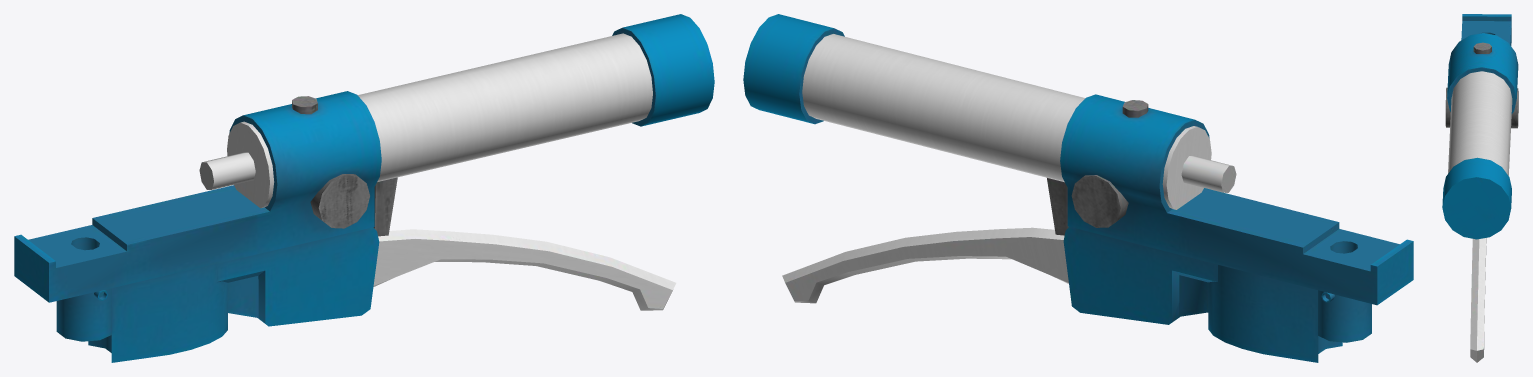
File: tool_pipe_bender_crossbow.glb
3 views of the same model, side by side, from view 1: azimuth 30°, elevation 25°; view 2: azimuth 150°, elevation 25°; view 3: azimuth 270°, elevation 25° (orthographic). The views are drawn at different scales.
Visible parts, largest first — view 1: tool_pipe_bender_crossbow; view 2: tool_pipe_bender_crossbow; view 3: tool_pipe_bender_crossbow.
Boxes of the visible parts, x1,y1,x2,y2 form: tool_pipe_bender_crossbow: (14, 14, 714, 362); tool_pipe_bender_crossbow: (743, 14, 1413, 362); tool_pipe_bender_crossbow: (1442, 14, 1518, 362).
Bounding box in the file's own units: 0.3873 × 0.1656 × 0.0575.
Materials: 1 (1 with a texture image).
